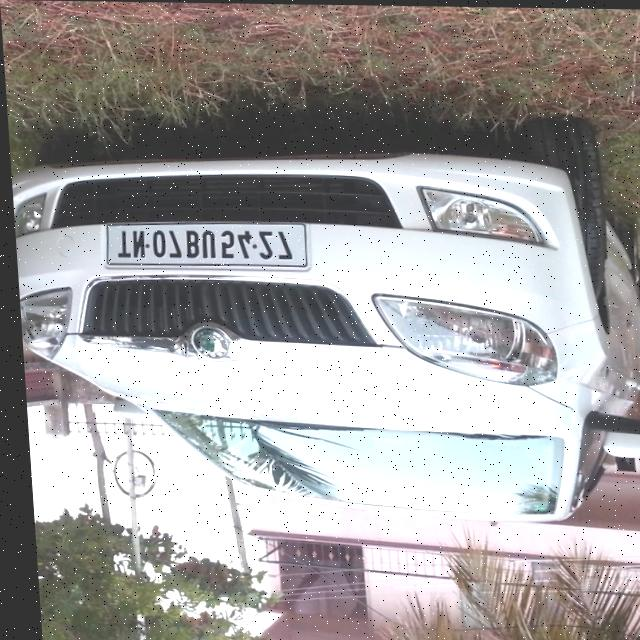plate: (101, 219, 304, 269)
